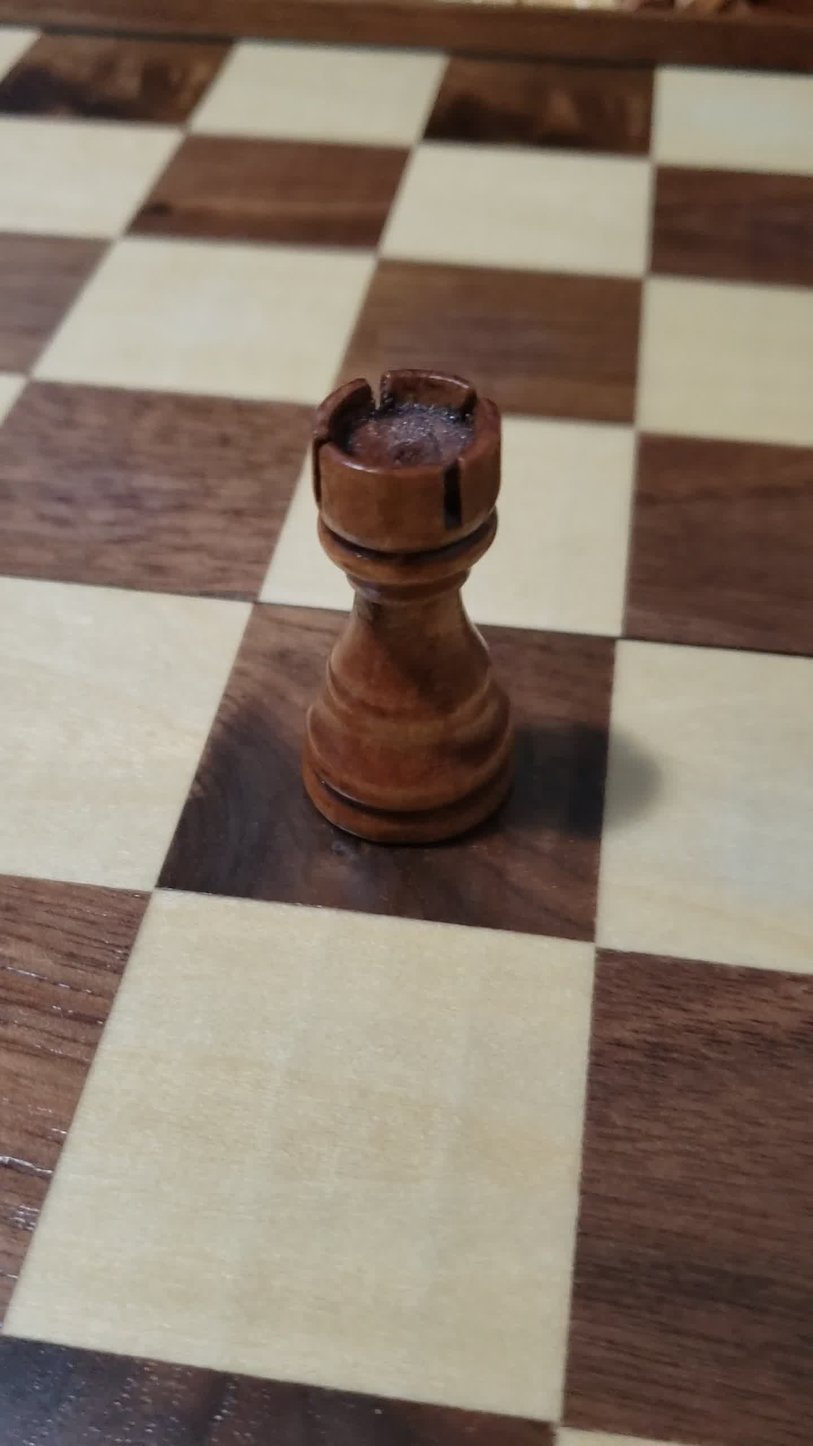black-rook: (263, 339, 575, 872)
